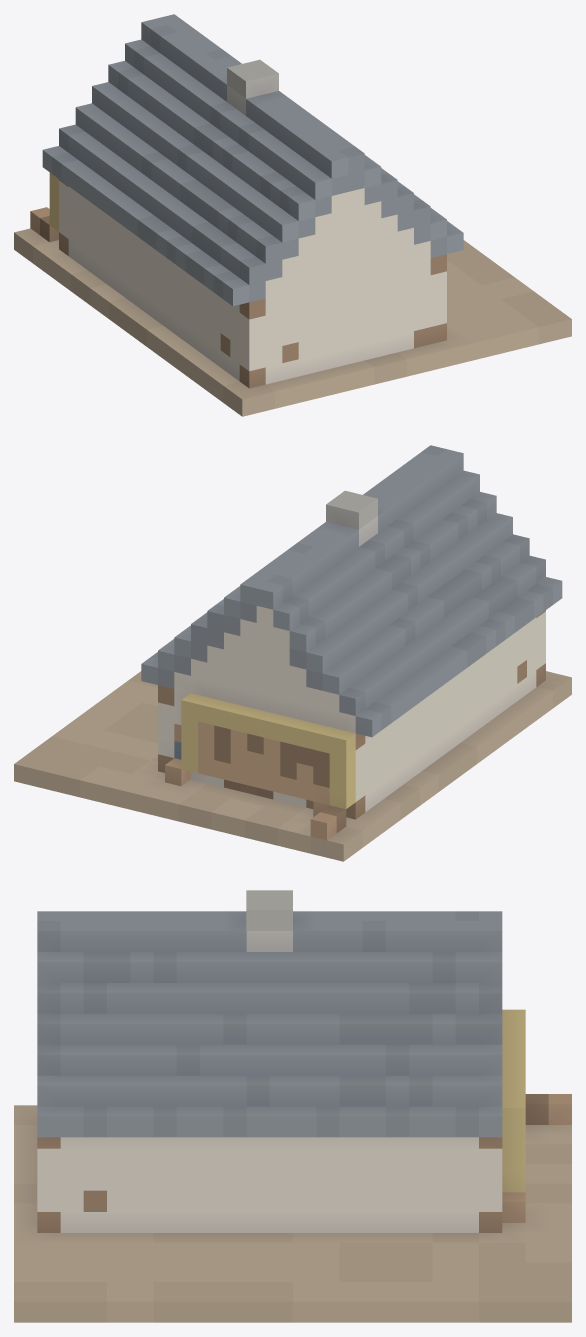
Rendered from distillery.lite.glb.
3 renders of one model, top to bottom at view 1: azimuth 30°, elevation 25°; view 2: azimuth 150°, elevation 25°; view 3: azimuth 270°, elevation 25°, orthographic. The views are drawn at different scales.
Parts seen in each view (by area): view 1: distillery; view 2: distillery; view 3: distillery.
Boxes of the visible parts, x1,y1,x2,y2 form: distillery: [14, 14, 571, 416]; distillery: [14, 445, 571, 861]; distillery: [14, 890, 571, 1322].
Size of the model in its own units: 5 by 3.5 by 6.
